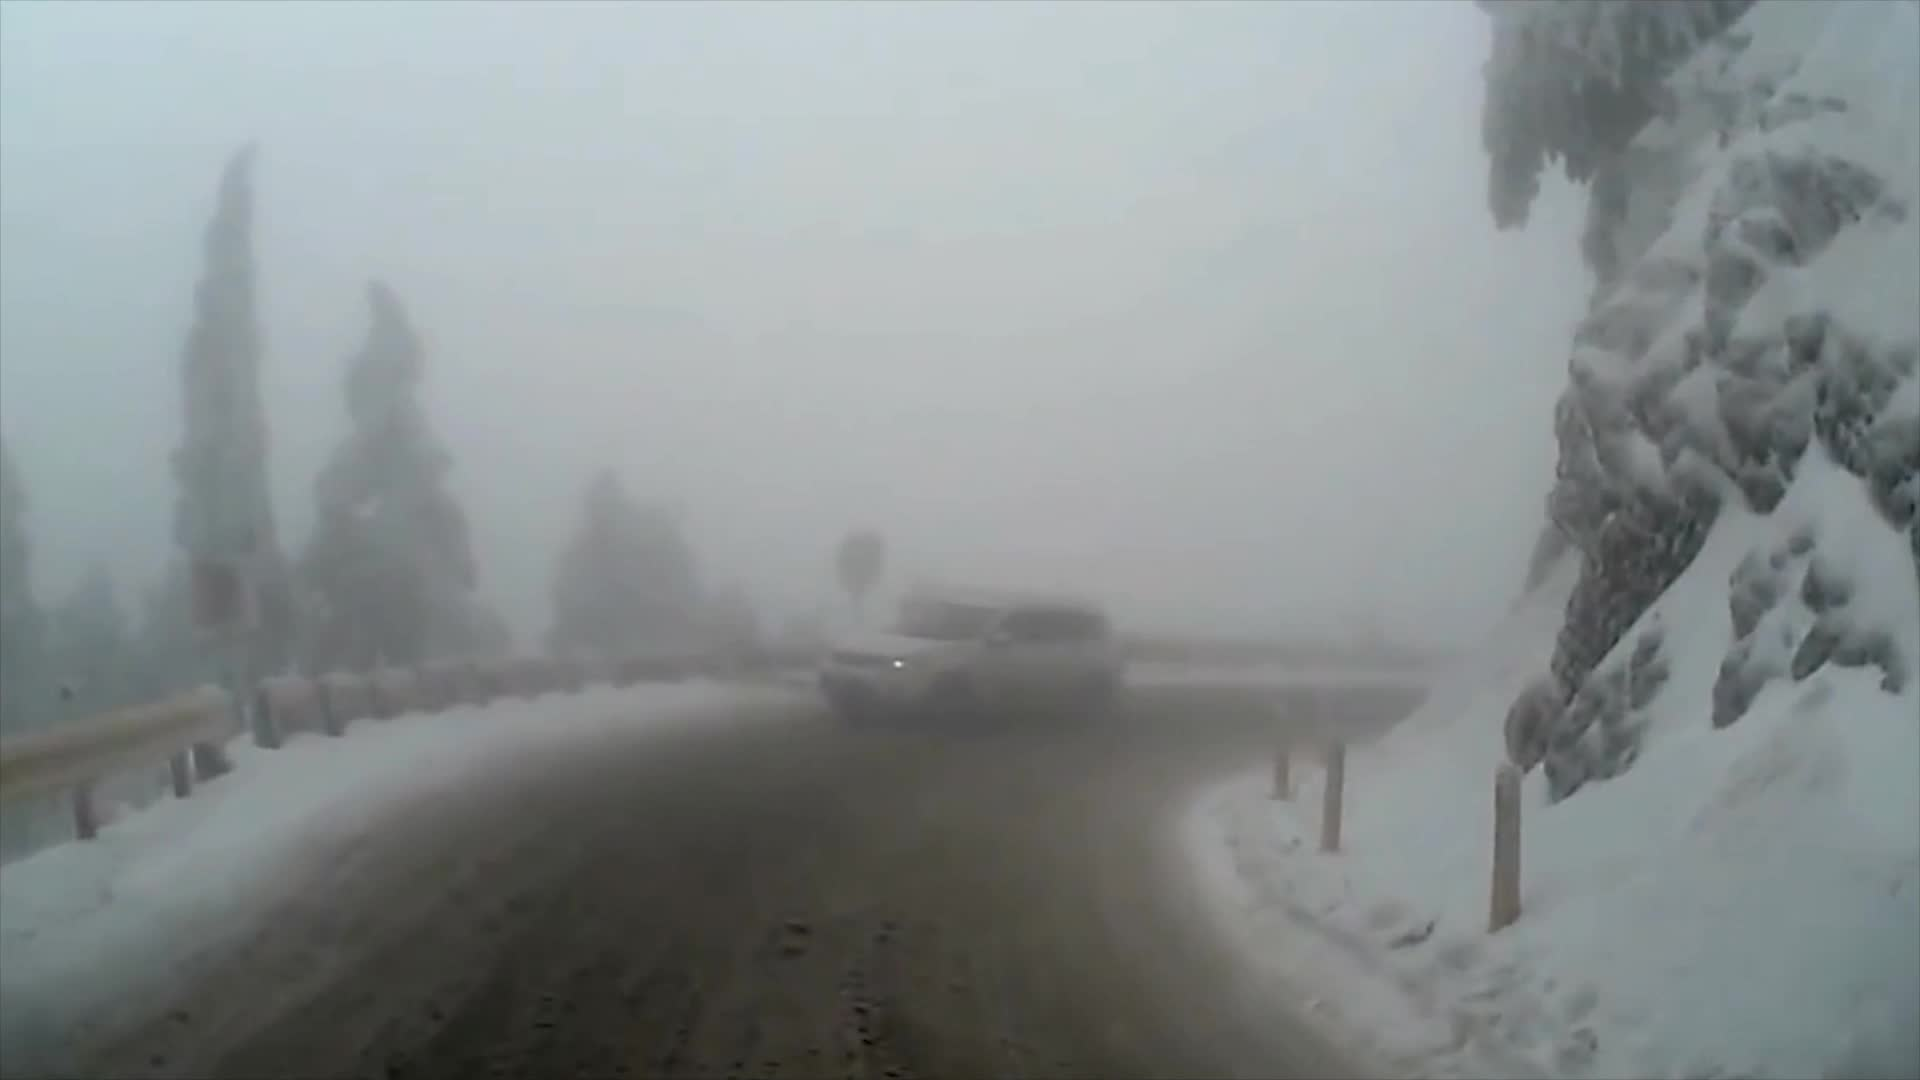vehicle: (819, 589, 1121, 753)
